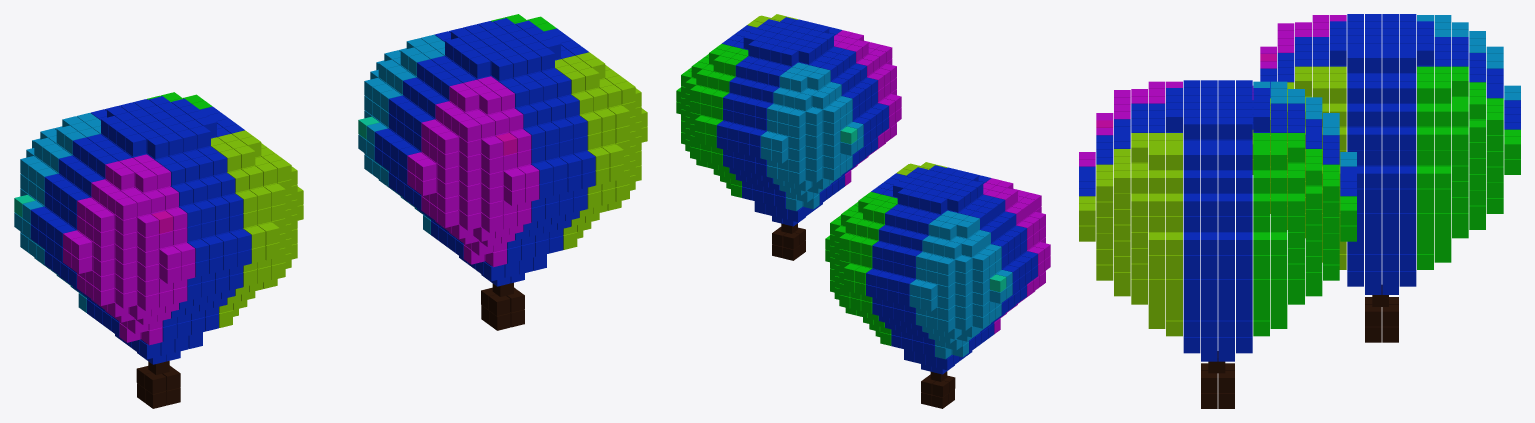
The model's file is balloon.obj.
3 views of the same model, side by side, from view 1: azimuth 30°, elevation 25°; view 2: azimuth 150°, elevation 25°; view 3: azimuth 270°, elevation 25° (orthographic). The views are drawn at different scales.
Parts seen in each view (by area): view 1: Cube.1809_Cube.7591, Cube.001_Cube.8175; view 2: Cube.1809_Cube.7591, Cube.001_Cube.8175; view 3: Cube.001_Cube.8175, Cube.1809_Cube.7591.
Boxes of the visible parts, x1=… form: Cube.1809_Cube.7591: x1=14, y1=92, x2=303, y2=408; Cube.001_Cube.8175: x1=358, y1=14, x2=647, y2=330; Cube.1809_Cube.7591: x1=825, y1=162, x2=1050, y2=408; Cube.001_Cube.8175: x1=676, y1=14, x2=901, y2=260; Cube.001_Cube.8175: x1=1079, y1=80, x2=1356, y2=408; Cube.1809_Cube.7591: x1=1252, y1=14, x2=1520, y2=342.
Bounding box in the file's own units: 14 × 9.45 × 10.15.
